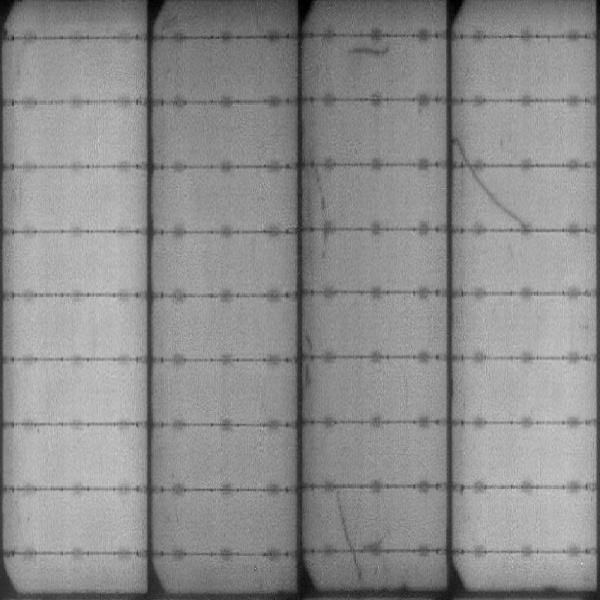scratch: (468, 168, 528, 233), (311, 169, 331, 228), (338, 503, 359, 546), (349, 546, 368, 579), (452, 135, 470, 164), (347, 46, 392, 56)
